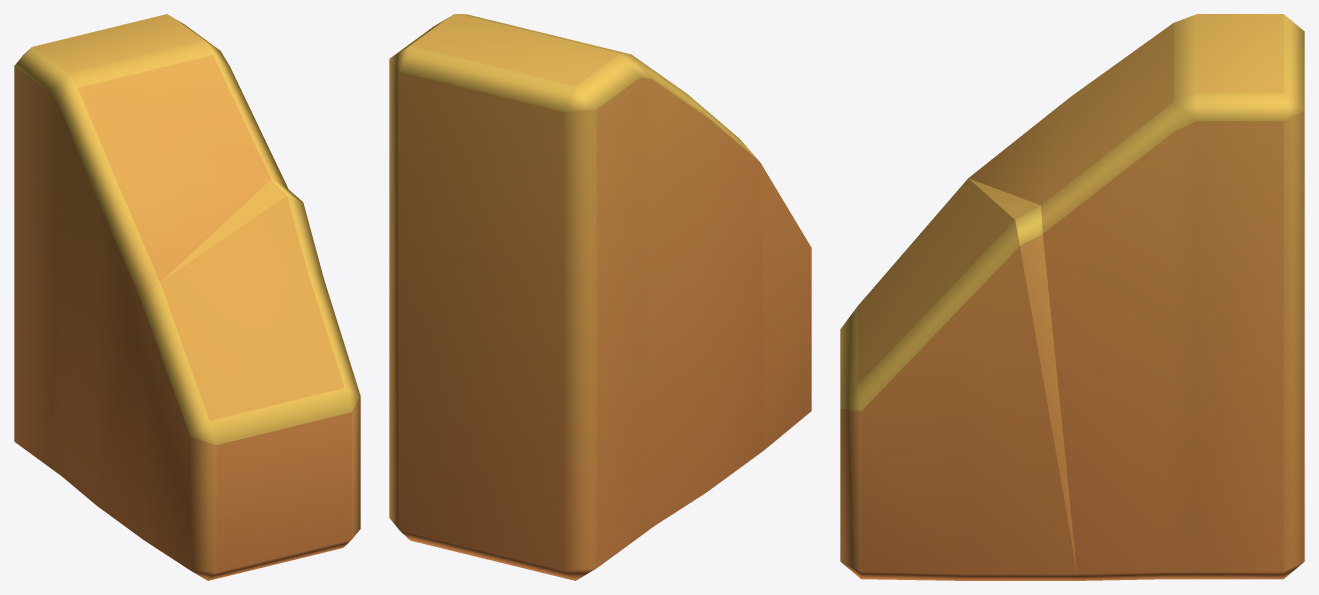
File: stair_sidewall.fbx
3 renders of one model, left to right at view 1: azimuth 30°, elevation 25°; view 2: azimuth 150°, elevation 25°; view 3: azimuth 270°, elevation 25°, orthographic. The views are drawn at different scales.
Parts seen in each view (by area): view 1: stair_sidewall; view 2: stair_sidewall; view 3: stair_sidewall.
Part boxes in pixels (x1,y1,x2,y2): stair_sidewall: (14,14,360,580); stair_sidewall: (389,14,811,580); stair_sidewall: (840,14,1304,580).
Size of the model in its own units: 57.14 by 121 by 105.
